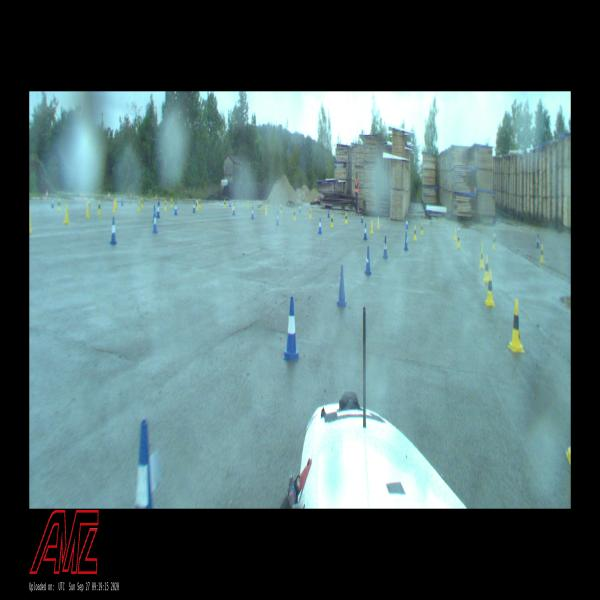blue_cone: (135, 420, 151, 509), (283, 297, 300, 361), (337, 264, 346, 307), (364, 246, 372, 275), (110, 216, 116, 244), (152, 213, 158, 234), (383, 235, 388, 259), (404, 232, 408, 251), (318, 217, 322, 234), (156, 202, 160, 219), (152, 205, 156, 222), (174, 201, 178, 216), (276, 211, 280, 225), (364, 223, 367, 240), (536, 233, 539, 248), (251, 206, 254, 220), (192, 200, 195, 213), (361, 212, 364, 224), (457, 224, 460, 236), (51, 196, 54, 207), (327, 207, 330, 218), (406, 217, 408, 229), (233, 204, 235, 215), (298, 204, 300, 213), (258, 200, 260, 208), (229, 199, 231, 206)
orange_cone: (46, 190, 48, 198)
yellow_cone: (508, 299, 525, 353), (484, 270, 496, 307), (483, 256, 489, 282), (479, 246, 485, 269), (64, 204, 69, 225), (540, 244, 544, 263), (413, 225, 417, 241), (98, 200, 102, 215), (86, 203, 90, 218), (330, 214, 334, 228), (457, 233, 460, 248), (492, 234, 495, 249), (370, 220, 373, 234), (421, 223, 424, 235), (293, 209, 296, 221), (377, 217, 380, 229), (345, 213, 348, 224), (164, 200, 167, 210), (265, 205, 268, 215), (454, 228, 456, 241), (58, 198, 60, 210), (309, 208, 311, 219), (138, 200, 140, 211), (142, 198, 144, 208), (196, 200, 198, 210), (171, 198, 173, 208), (199, 198, 201, 208), (224, 199, 226, 208), (280, 204, 282, 213), (260, 202, 262, 210)
